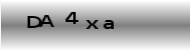4: (64, 10, 80, 26)
A: (40, 13, 54, 27)
D: (26, 16, 42, 28)
a: (102, 19, 115, 30)
x: (85, 19, 100, 30)
